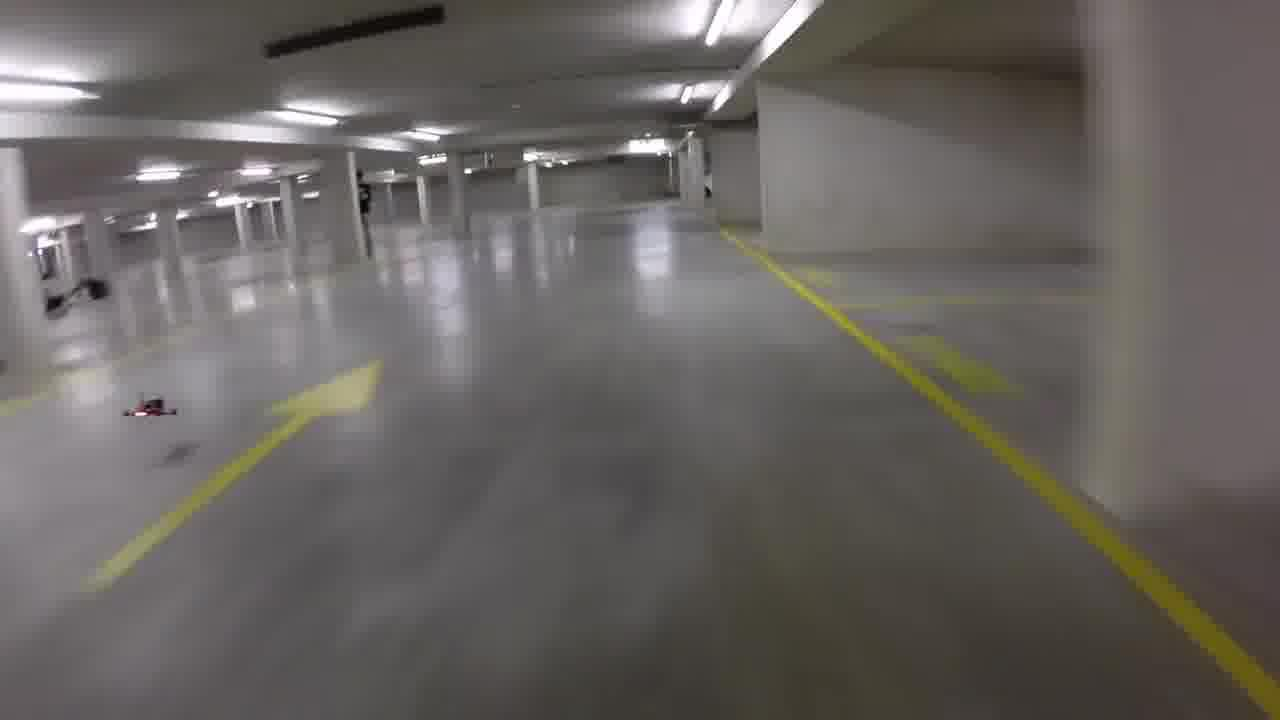drone: (112, 380, 190, 430)
